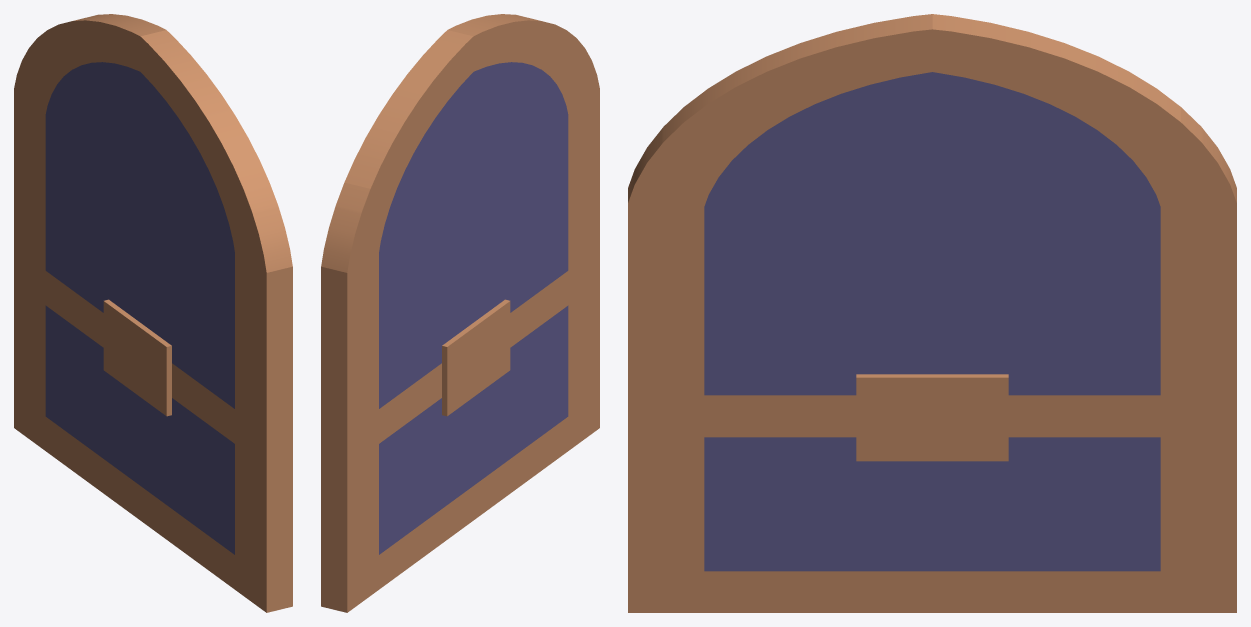
File: Door.fbx
3 views of the same model, side by side, from view 1: azimuth 30°, elevation 25°; view 2: azimuth 150°, elevation 25°; view 3: azimuth 270°, elevation 25° (orthographic). The views are drawn at different scales.
Visible parts, largest first — view 1: mergedBlocks; view 2: mergedBlocks; view 3: mergedBlocks.
Boxes of the visible parts, x1=… form: mergedBlocks: x1=14, y1=14, x2=292, y2=612; mergedBlocks: x1=321, y1=14, x2=599, y2=612; mergedBlocks: x1=628, y1=14, x2=1236, y2=612.
Size of the model in its own units: 1.4 by 17.66 by 16.7.
